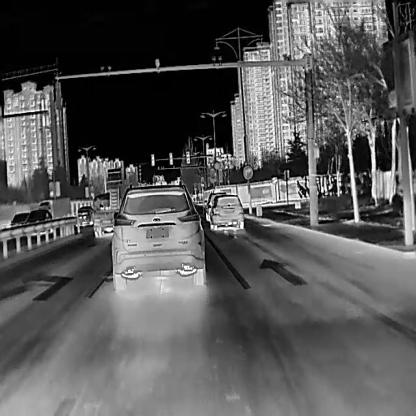car: (110, 180, 205, 288), (207, 192, 243, 230), (24, 208, 53, 236), (7, 212, 29, 232), (75, 205, 92, 226)
truck: (92, 186, 120, 237), (37, 196, 72, 222)
